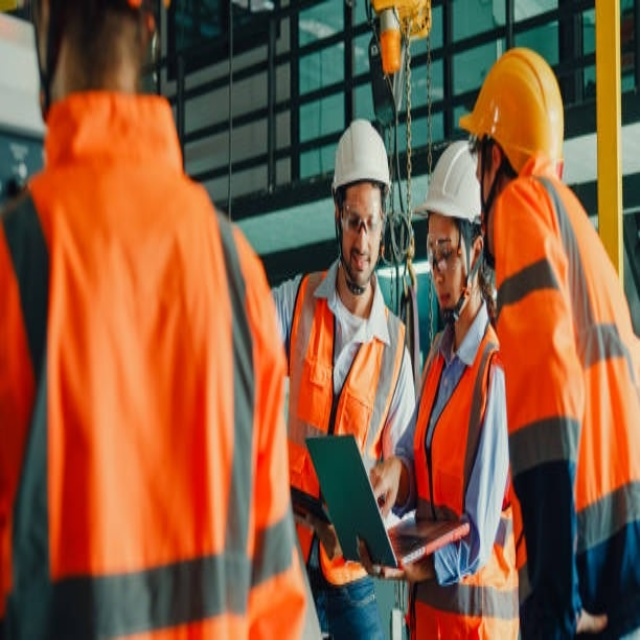Gafas: (339, 202, 387, 234), (425, 232, 459, 273)
Sin_guantes: (365, 452, 402, 519)
Sin_mascara: (347, 246, 374, 275), (434, 279, 455, 307)
